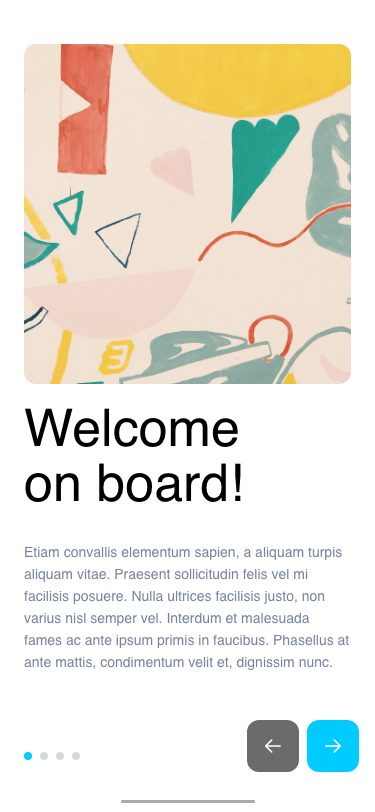Icon: (247, 719, 300, 772), (307, 720, 359, 772)
Image: (25, 44, 351, 385)
PageIndicator: (24, 751, 82, 761)
Text: (24, 546, 350, 671), (25, 408, 242, 503)
